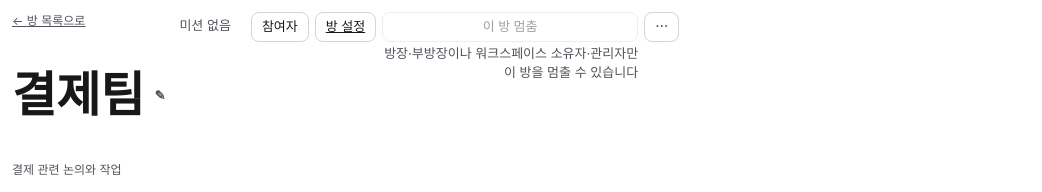
S7 방 머리 — 편집 › 글자를 눌러도 편집에 들어간다 · Esc 는 취소(저장하지 않는다) · 「취소」도
Click the heading with test id "room-title-text" at (78, 95), box [12, 64, 144, 127]
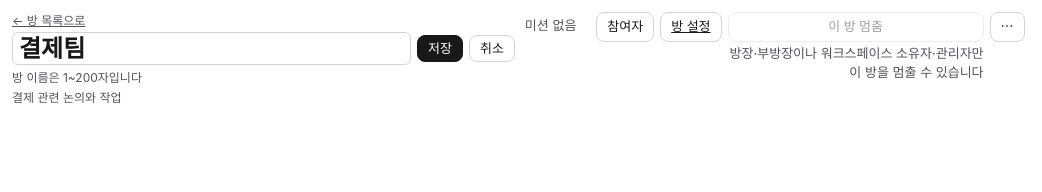
Replace the text in the field with test id "room-title-input" with "딴 이름" at (212, 49), box [12, 32, 411, 65]
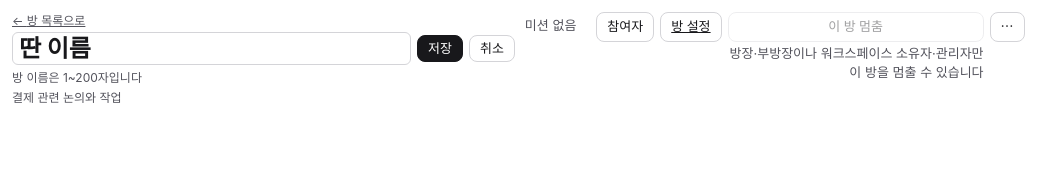
Press Escape in the field with test id "room-title-input", box [12, 32, 411, 65]
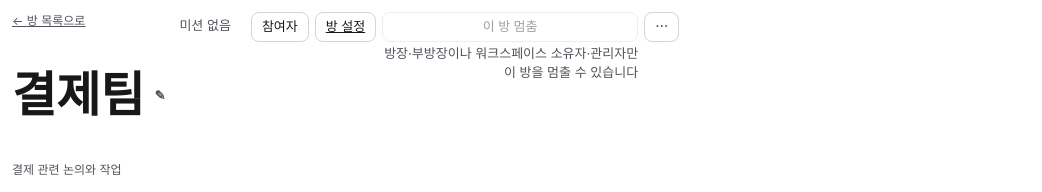
Result: the field with test id "room-title-input" is gone
Result: the heading with test id "room-title-text" reads "결제팀" at [12, 65, 144, 124]
Click the button with test id "room-title-pencil" at (160, 95), box [150, 87, 169, 104]
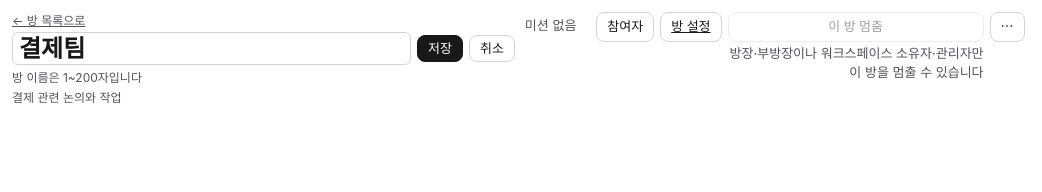
Replace the text in the field with test id "room-title-input" with "딴 이름" at (212, 49), box [12, 32, 411, 65]
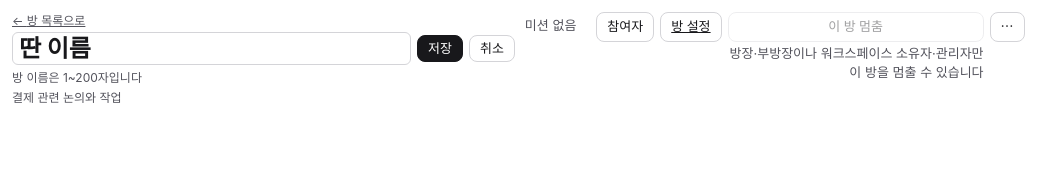
Click the button with test id "room-title-cancel" at (492, 49), box [469, 35, 515, 62]
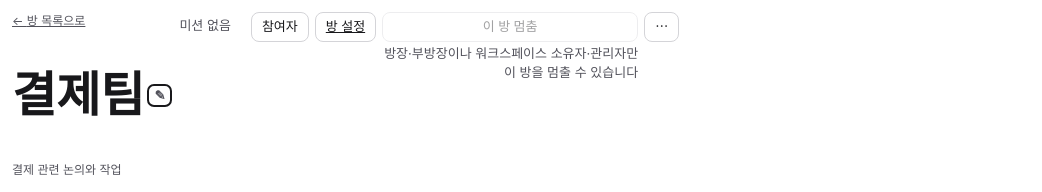
Result: the field with test id "room-title-input" is gone
